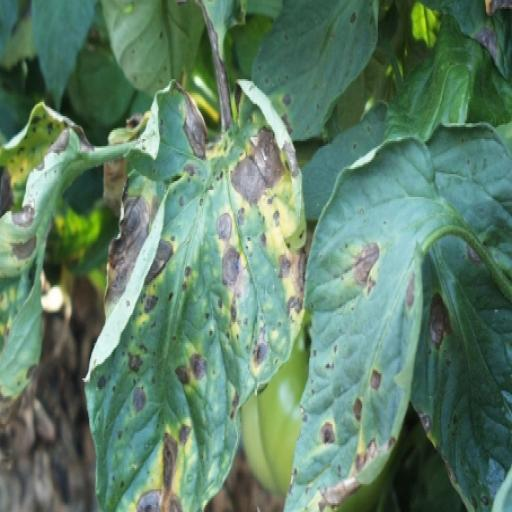Early Blight: (80, 58, 306, 512), (280, 132, 437, 512)
